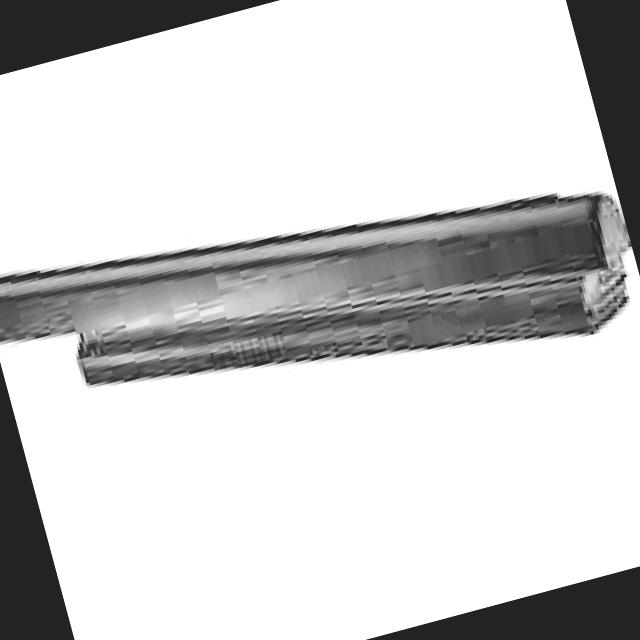Battery: (0, 117, 640, 481)
